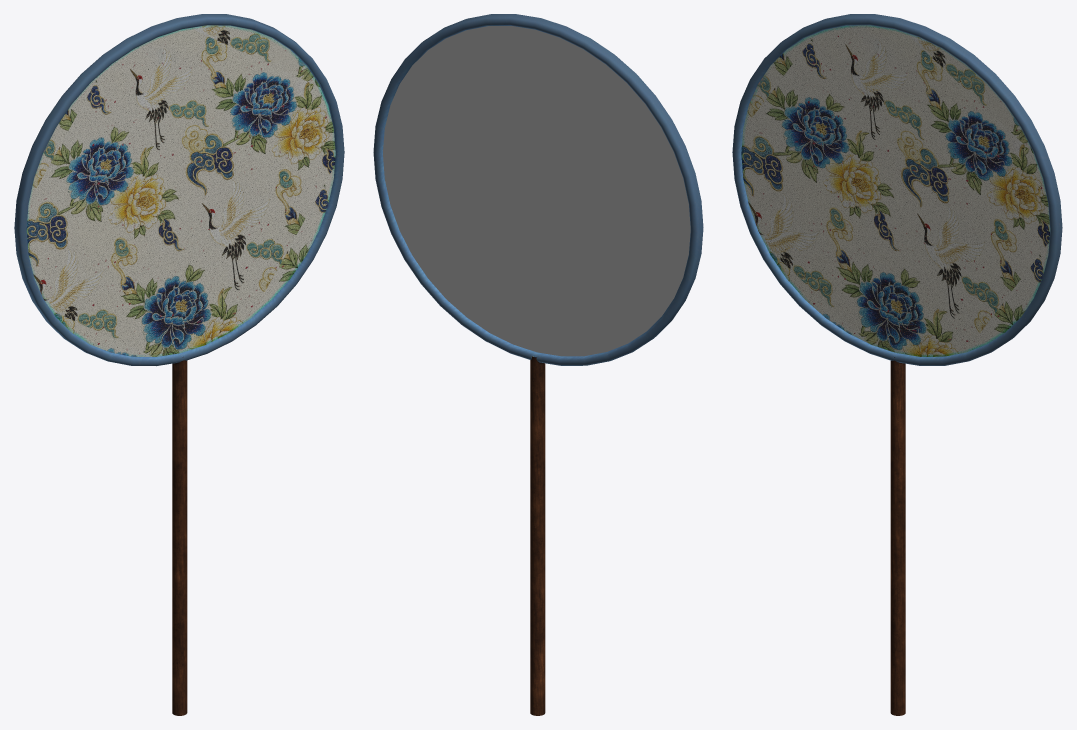
File: fan.glb
3 renders of one model, left to right at view 1: azimuth 30°, elevation 25°; view 2: azimuth 150°, elevation 25°; view 3: azimuth 330°, elevation 25°, orthographic.
Visible parts, largest first — view 1: uv:pCylinder3group5group1group3, uv:group5pCylinder2; view 2: uv:pCylinder3group5group1group3, uv:group5pCylinder2; view 3: uv:pCylinder3group5group1group3, uv:group5pCylinder2.
Boxes of the visible parts, bbox=[...] form: uv:pCylinder3group5group1group3: bbox=[14, 14, 344, 366]; uv:group5pCylinder2: bbox=[172, 356, 187, 715]; uv:pCylinder3group5group1group3: bbox=[373, 14, 703, 365]; uv:group5pCylinder2: bbox=[530, 356, 545, 715]; uv:pCylinder3group5group1group3: bbox=[732, 14, 1062, 365]; uv:group5pCylinder2: bbox=[890, 357, 905, 715].
Bounding box in the file's own units: 0.4992 × 1.01 × 0.0203.
Materials: 1 (1 with a texture image).
